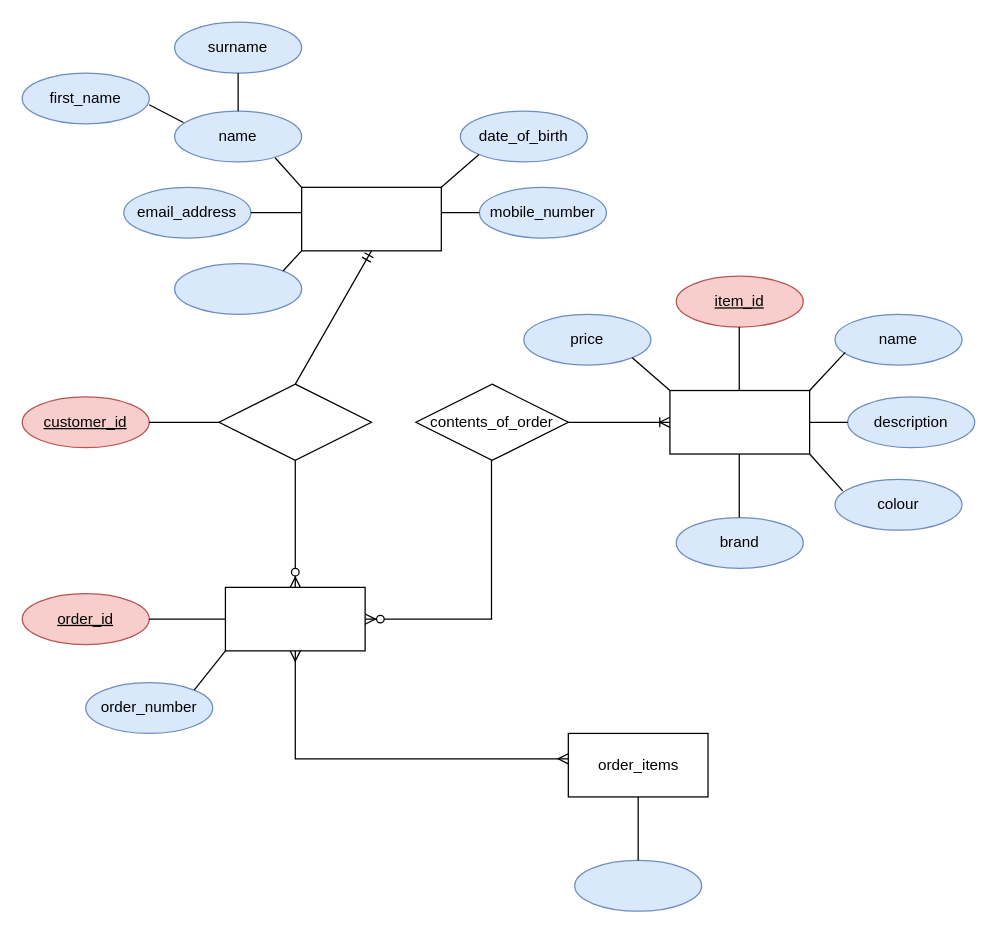
This 997x933 diagram has some shape labels left out. Here are the shapes that lost their labels. From the top down, the box of each, then its label:
(300, 186, 441, 251): customer
(173, 262, 302, 314): home_address
(218, 383, 371, 460): order_placed
(669, 389, 810, 454): item
(224, 586, 365, 651): order
(573, 859, 702, 911): num_of_items
